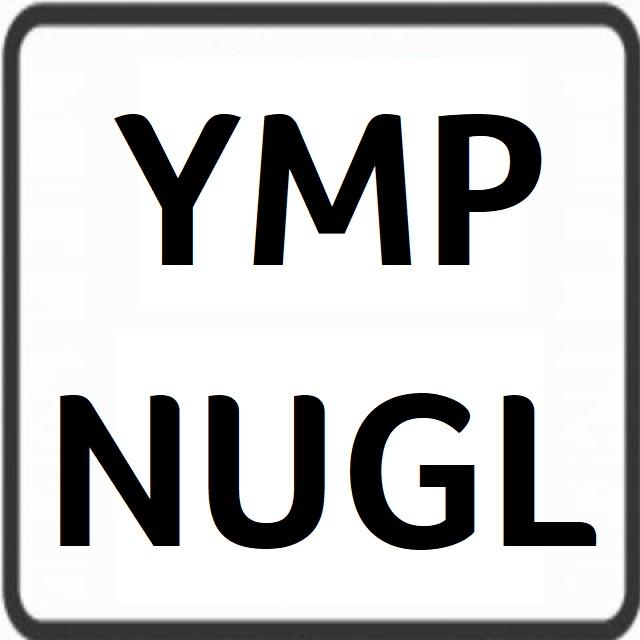G: (348, 382, 481, 566)
L: (500, 380, 608, 562)
M: (246, 106, 410, 280)
N: (53, 361, 187, 556)
P: (431, 104, 550, 278)
Y: (108, 90, 236, 282)
